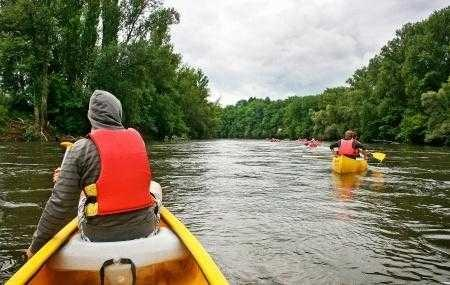kayak: (4, 201, 231, 282), (331, 154, 369, 174)
